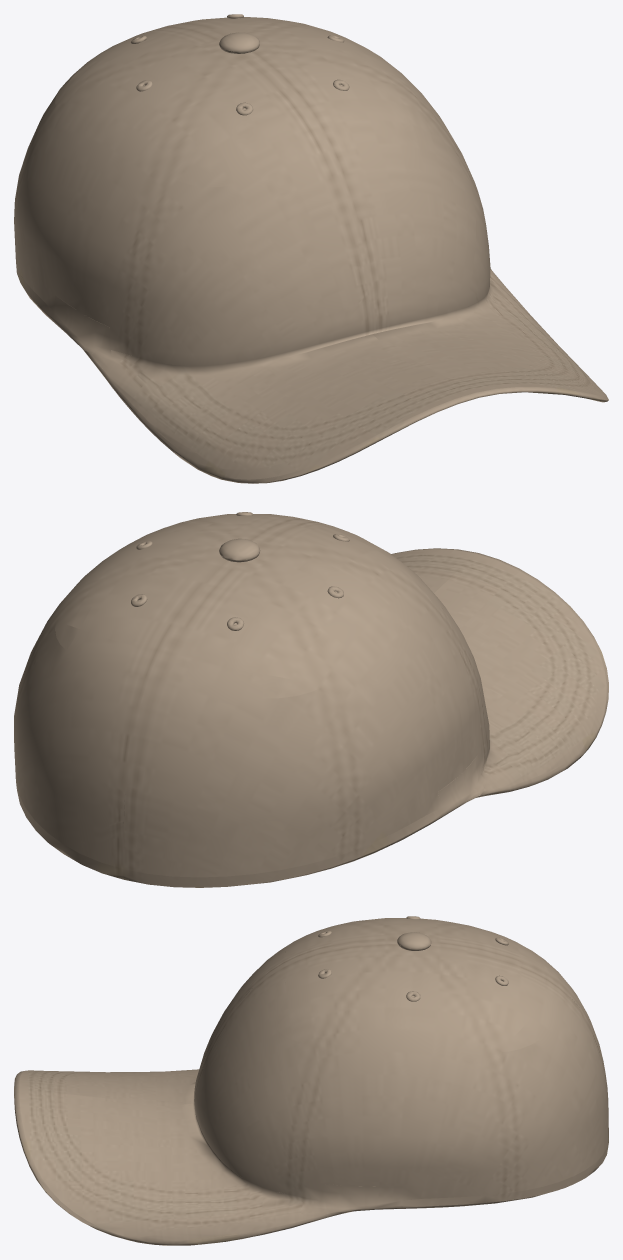
Rendered from hat_cap.glb.
The picture shows the model from 3 angles, top to bottom: view 1: azimuth 30°, elevation 25°; view 2: azimuth 150°, elevation 25°; view 3: azimuth 270°, elevation 25°; orthographic projection. The views are drawn at different scales.
Visible parts, largest first — view 1: hat_cap; view 2: hat_cap; view 3: hat_cap.
Part boxes in pixels (x1,y1,x2,y2): hat_cap: (14, 14, 608, 483); hat_cap: (14, 512, 608, 887); hat_cap: (14, 916, 608, 1245).
Bounding box in the file's own units: 0.1735 × 0.1164 × 0.27.
Materials: 1 (1 with a texture image).
